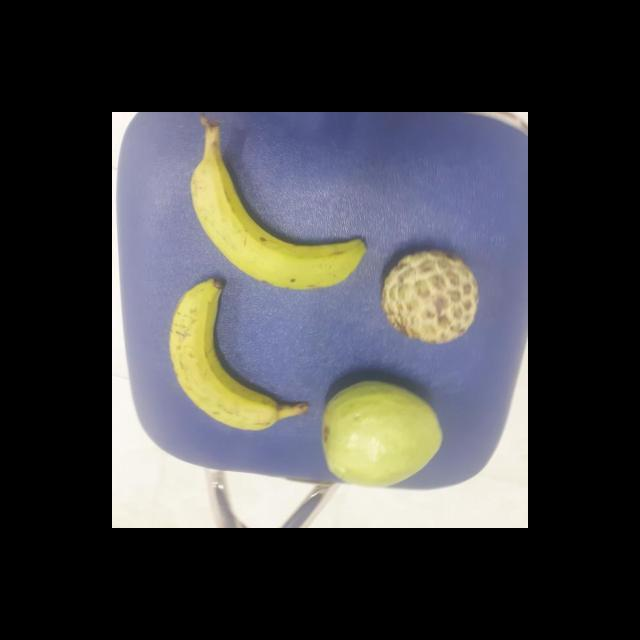Sakya fruit: (380, 249, 483, 342)
banana: (198, 143, 378, 287), (171, 280, 310, 430)
guava: (320, 378, 443, 490)
